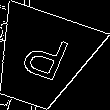P_S: (12, 30, 71, 90)
